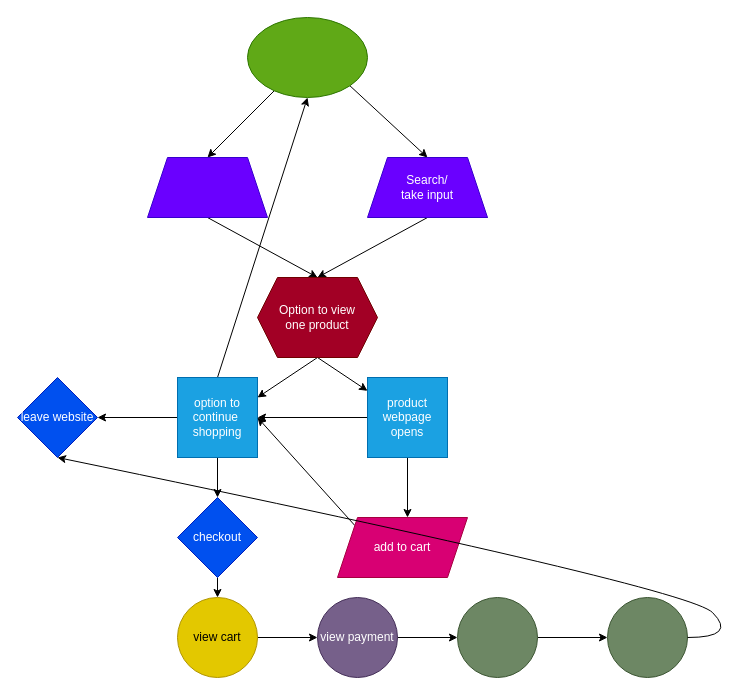
Some shapes in this 739 by 695 pixel diagram are drawn without their labels. Here are the shapes that lost their labels. From the top down, the centre of each, then its label:
At point 307,57: "Website home page".
At point 207,187: "Explore products".
At point 497,637: "payment info".
At point 647,637: "conf, email".
